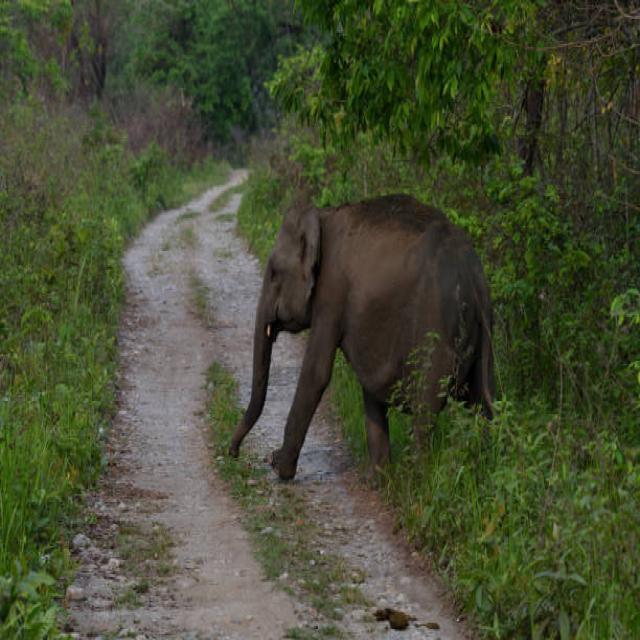Elephant: (226, 187, 530, 495)
